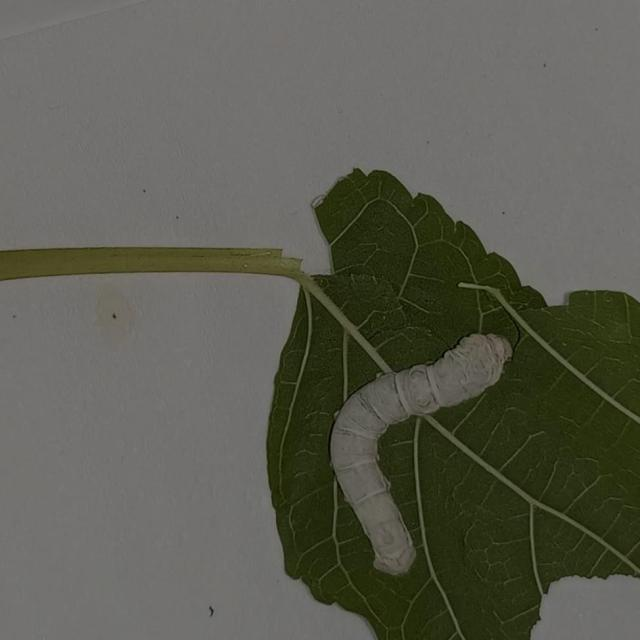Healthy: (291, 312, 539, 608)
